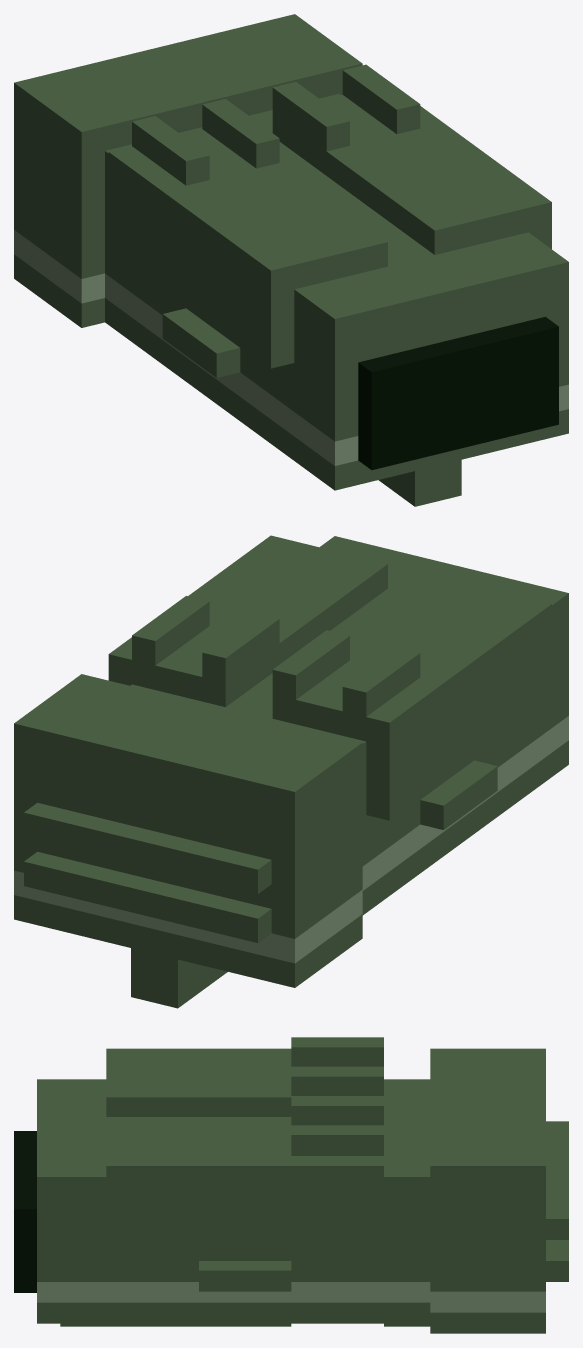
File: cargo-transformed.glb
The picture shows the model from 3 angles, top to bottom: view 1: azimuth 30°, elevation 25°; view 2: azimuth 150°, elevation 25°; view 3: azimuth 270°, elevation 25°; orthographic projection. The views are drawn at different scales.
Parts seen in each view (by area): view 1: Cube; view 2: Cube; view 3: Cube.
Part boxes in pixels (bbox=[...]): Cube: bbox=[14, 14, 568, 506]; Cube: bbox=[14, 535, 568, 1008]; Cube: bbox=[14, 1037, 568, 1333].
Size of the model in its own units: 12 by 11 by 24.
1 material, 1 textured.
